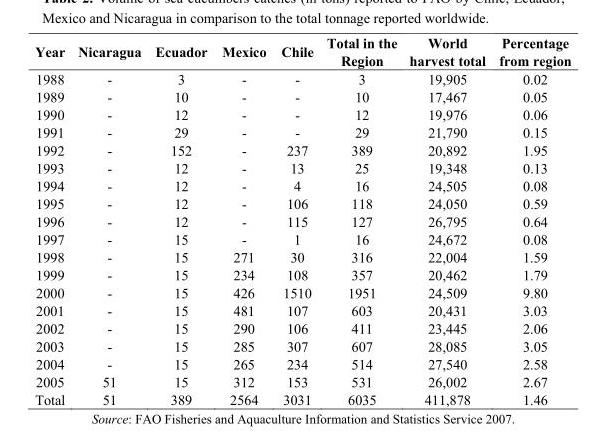table: (34, 34, 570, 407)
table column: (402, 34, 491, 407), (319, 34, 402, 407), (491, 34, 570, 407), (70, 34, 147, 407), (147, 34, 213, 407), (213, 34, 272, 407), (272, 34, 319, 407), (34, 34, 70, 407)
table column header: (34, 34, 570, 69)
table row: (34, 34, 570, 69), (34, 69, 570, 87), (34, 87, 570, 105), (34, 105, 570, 123), (34, 140, 570, 158), (34, 158, 570, 176), (34, 176, 570, 194), (34, 194, 570, 212), (34, 212, 570, 230), (34, 247, 570, 265), (34, 265, 570, 283), (34, 283, 570, 301), (34, 301, 570, 319), (34, 336, 570, 354), (34, 354, 570, 372), (34, 372, 570, 390), (34, 123, 570, 140), (34, 230, 570, 247), (34, 319, 570, 336), (34, 390, 570, 407)
